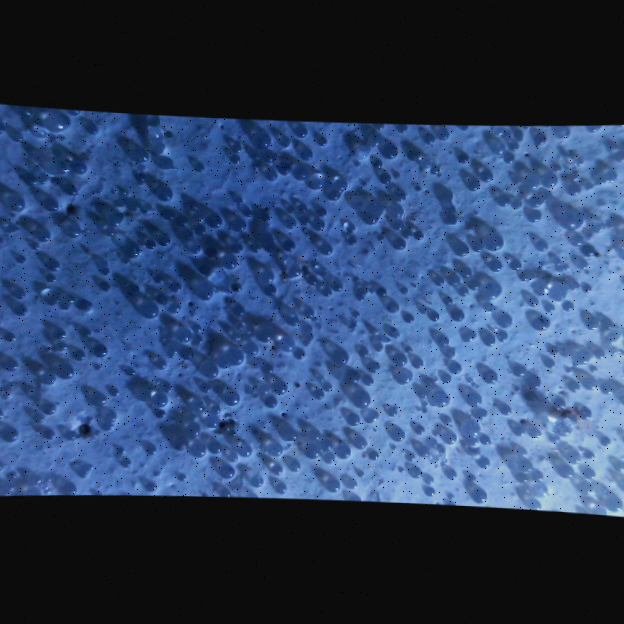GrassBeadSeg: (10, 129, 614, 496), (0, 148, 529, 501), (16, 110, 561, 444), (0, 134, 477, 482), (130, 147, 596, 494), (48, 125, 458, 480), (40, 214, 589, 456), (118, 172, 560, 467), (76, 195, 543, 470), (126, 170, 526, 482), (41, 185, 583, 414), (60, 258, 588, 493), (109, 277, 623, 511), (179, 195, 598, 481), (143, 182, 580, 455), (128, 151, 543, 438), (78, 238, 584, 472), (11, 287, 571, 477), (0, 296, 533, 492), (165, 130, 481, 455), (0, 119, 594, 291), (0, 242, 471, 442), (5, 227, 357, 479), (6, 196, 344, 458), (229, 233, 596, 474), (4, 135, 328, 404), (62, 183, 379, 455), (275, 212, 584, 483), (157, 184, 537, 399), (1, 240, 408, 438), (270, 192, 551, 467), (184, 285, 564, 488), (29, 280, 518, 435), (12, 303, 457, 471), (124, 176, 498, 375), (173, 121, 386, 451), (281, 171, 552, 430), (386, 204, 623, 497), (66, 310, 465, 478), (0, 162, 300, 385), (99, 266, 490, 420), (6, 299, 319, 491), (265, 178, 481, 456), (282, 215, 490, 503), (31, 227, 407, 385), (71, 287, 358, 489), (219, 199, 513, 394), (331, 279, 623, 475), (40, 197, 391, 357), (230, 218, 512, 415), (64, 361, 528, 479), (415, 185, 598, 481), (43, 113, 217, 423), (98, 269, 543, 389), (81, 126, 505, 250), (170, 131, 334, 450), (308, 123, 469, 439), (122, 243, 447, 398), (225, 297, 528, 463), (158, 168, 381, 388), (182, 347, 581, 463), (1, 347, 325, 485), (280, 330, 577, 476), (260, 149, 567, 287), (276, 147, 484, 347), (280, 340, 553, 485), (177, 162, 301, 479), (138, 300, 506, 406), (381, 143, 514, 436), (319, 245, 599, 383), (318, 241, 487, 469), (76, 301, 321, 458), (30, 412, 594, 479), (39, 123, 180, 385), (435, 131, 568, 408), (0, 369, 362, 470), (71, 159, 580, 230), (14, 219, 454, 301), (367, 286, 567, 461), (45, 172, 394, 272), (187, 218, 328, 457), (87, 392, 490, 475), (245, 343, 455, 498), (436, 172, 534, 496), (199, 334, 449, 457), (79, 305, 315, 434), (467, 296, 623, 489), (54, 268, 274, 404), (391, 189, 484, 503), (376, 233, 607, 359), (318, 278, 482, 450), (151, 235, 359, 369), (144, 423, 525, 493), (208, 409, 593, 478), (351, 258, 504, 404), (200, 338, 415, 439), (458, 265, 544, 510), (225, 223, 352, 364), (128, 275, 375, 345), (407, 280, 501, 460), (170, 135, 273, 289), (205, 267, 303, 426), (357, 247, 453, 409), (77, 246, 142, 476), (35, 413, 254, 481), (36, 126, 303, 181), (299, 122, 459, 211), (261, 238, 356, 374), (42, 351, 187, 439), (152, 408, 493, 445), (190, 397, 458, 444), (264, 284, 593, 321), (3, 126, 141, 210), (402, 229, 528, 320), (449, 282, 575, 372), (544, 345, 623, 470), (3, 328, 154, 393), (268, 441, 438, 496), (47, 341, 226, 391), (32, 241, 108, 355), (283, 275, 446, 326), (196, 268, 462, 299), (17, 106, 59, 302), (554, 222, 623, 341), (284, 410, 404, 476), (481, 169, 607, 231), (230, 375, 361, 434), (261, 160, 368, 229), (457, 233, 586, 287), (54, 362, 241, 399), (460, 125, 583, 180), (474, 330, 540, 431), (154, 284, 502, 303), (325, 426, 404, 492), (482, 313, 554, 383), (122, 227, 192, 294), (278, 134, 349, 199), (554, 124, 622, 188), (254, 131, 274, 343), (190, 212, 296, 252), (412, 346, 455, 444), (173, 327, 263, 371), (128, 173, 204, 225), (387, 377, 437, 455), (563, 337, 623, 401), (31, 217, 162, 246), (221, 391, 482, 405), (151, 273, 175, 393), (389, 236, 410, 366), (315, 381, 380, 422), (191, 335, 224, 413), (316, 277, 375, 320), (413, 127, 452, 192), (250, 395, 277, 487), (363, 284, 429, 317), (346, 222, 357, 371), (351, 308, 384, 350), (391, 443, 445, 467), (464, 369, 497, 405), (16, 254, 57, 282), (53, 331, 87, 360), (442, 414, 475, 443), (220, 346, 255, 367), (166, 283, 182, 314), (155, 392, 169, 406), (465, 286, 469, 289)
